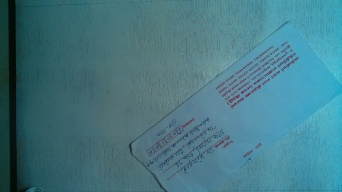l: (129, 20, 341, 190)
